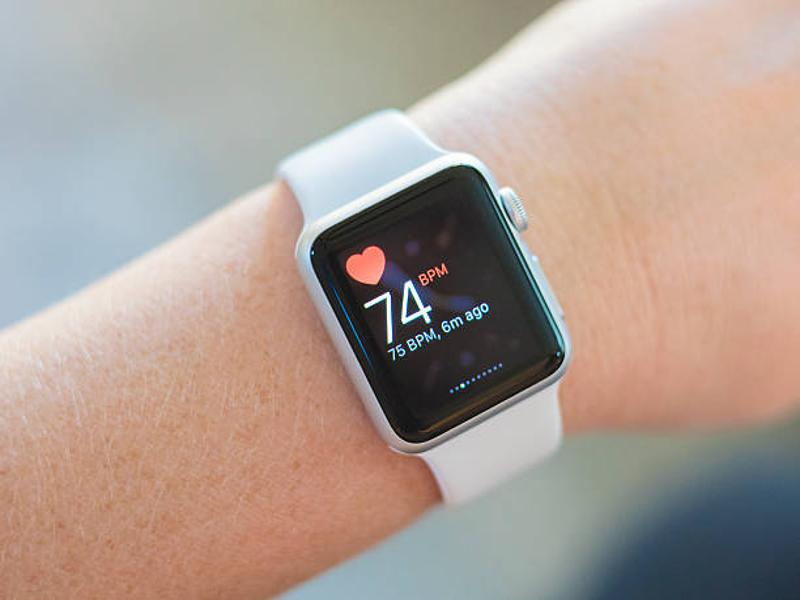watch: (276, 108, 569, 506)
